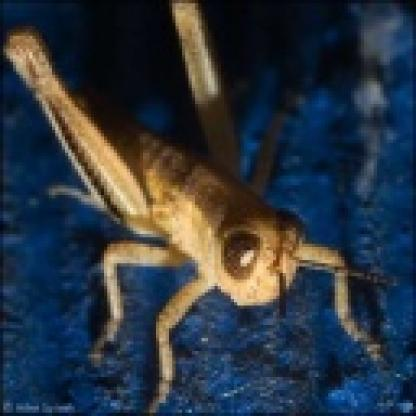grasshopper: (3, 15, 415, 392)
